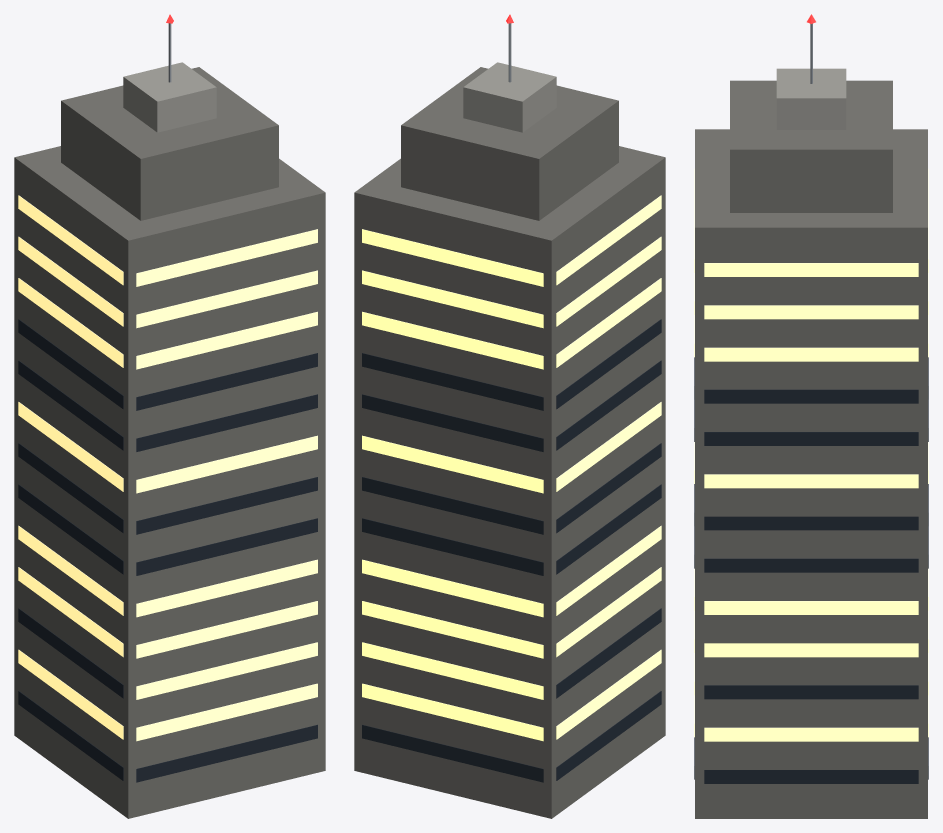
The model's file is skyskrapa_3.glb.
The picture shows the model from 3 angles, left to right: view 1: azimuth 30°, elevation 25°; view 2: azimuth 150°, elevation 25°; view 3: azimuth 270°, elevation 25°; orthographic projection. The views are drawn at different scales.
Parts seen in each view (by area): view 1: skyskrapa_3; view 2: skyskrapa_3; view 3: skyskrapa_3.
Part boxes in pixels (bbox=[...]): skyskrapa_3: bbox=[14, 14, 325, 818]; skyskrapa_3: bbox=[354, 14, 665, 818]; skyskrapa_3: bbox=[694, 14, 928, 818].
Bounding box in the file's own units: 20.1 × 71.58 × 20.1.
